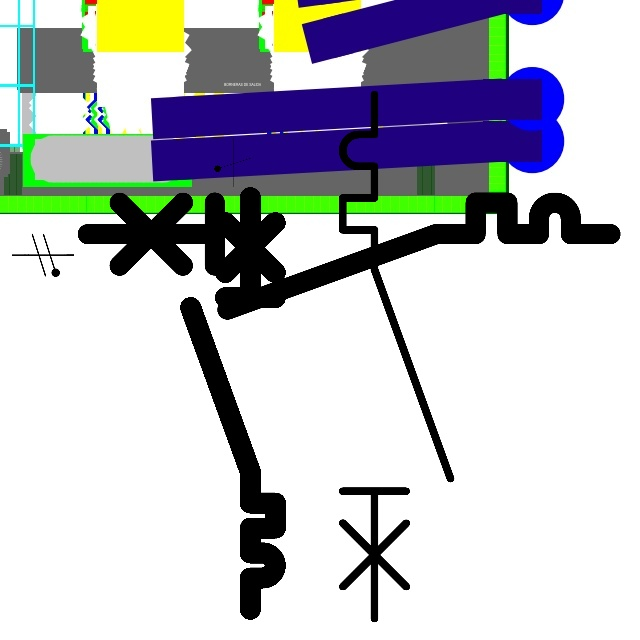interruptor_termomagnetico: (329, 81, 464, 632), (74, 189, 624, 323), (180, 187, 286, 620)
